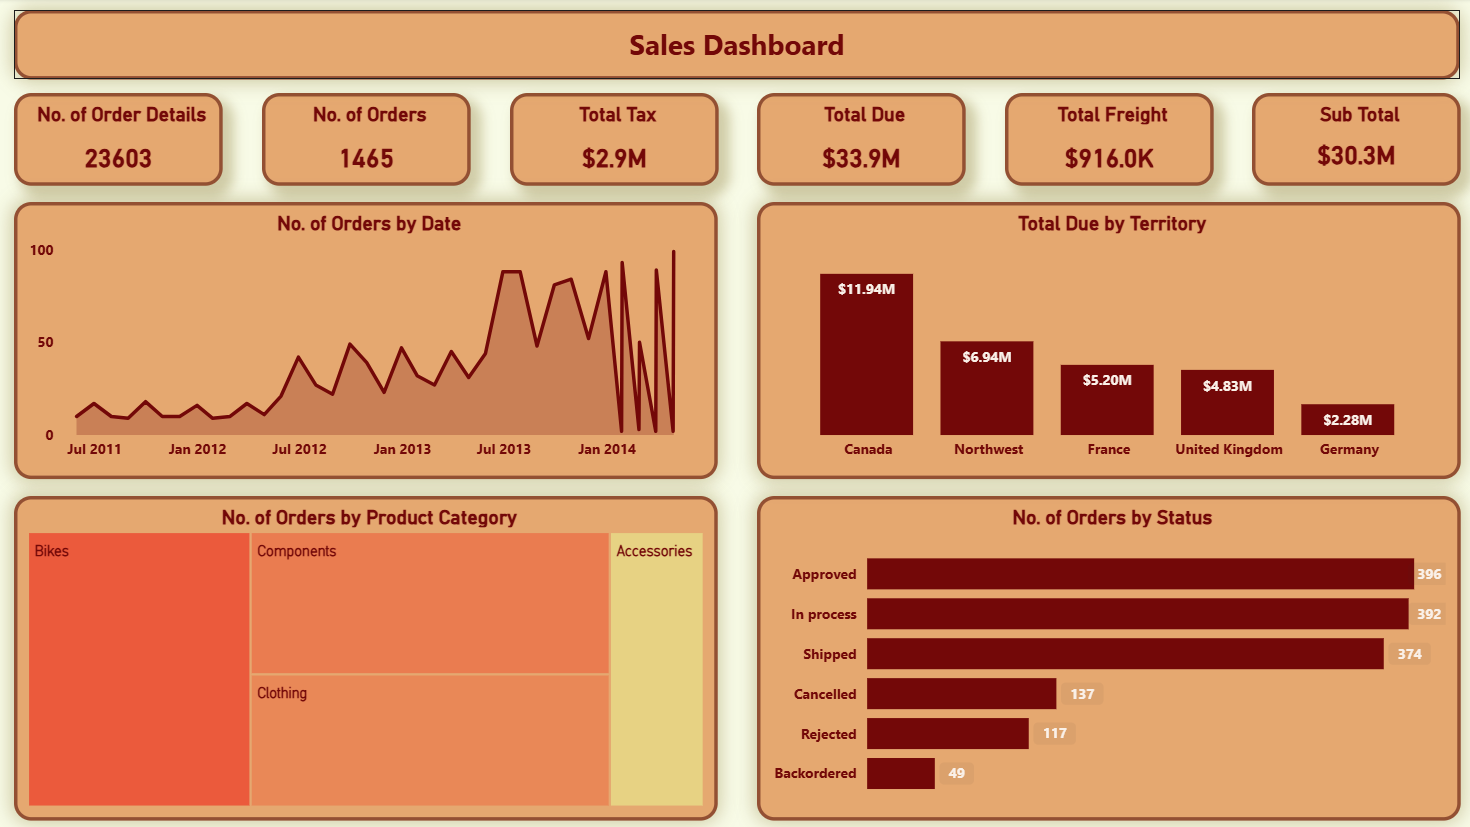

This screenshot's page, from the dashboard's own definition file:
{"tool":"powerbi","page":{"name":"Page 1","canvas":[1280,720],"ordinal":0},"visuals":[{"type":"cardVisual","title":"No. of Order Details","fields":{"Data":["Measures Table.# Order Details"]},"box":[17.5,82,180,80],"z":0},{"type":"cardVisual","title":"No. of Orders","fields":{"Data":["Measures Table.# Orders"]},"box":[231.1,82,180,80],"z":1000},{"type":"cardVisual","title":"Total Due","fields":{"Data":["Measures Table.Total Due"]},"box":[658.2,82,180,80],"z":2000},{"type":"cardVisual","title":"Sub Total","fields":{"Data":["Measures Table.Total Sub-Total"]},"box":[1085.3,82,180,80],"z":3000},{"type":"cardVisual","title":"Total Tax","fields":{"Data":["Measures Table.Total Tax"]},"box":[444.6,82,180,80],"z":4000},{"type":"cardVisual","title":"Total Freight","fields":{"Data":["Measures Table.Total Freight"]},"box":[871.8,82,180,80],"z":5000},{"type":"lineChart","title":"No. of Orders by Date","fields":{"Y":["Measures Table.# Orders"],"Category":["Fact Table.OrderDate"]},"box":[17.5,176.3,607,239],"z":6000},{"type":"clusteredBarChart","title":"No. of Orders by Status","fields":{"Category":["Status Dim.Status"],"Y":["Measures Table.# Orders"]},"box":[658.1,429.5,607.2,280.3],"z":7000},{"type":"treemap","title":"No. of Orders by Product Category","fields":{"Values":["Measures Table.# Orders"],"Group":["Product Dim.ProductCategory Hierarchy.ProductCategory","Product Dim.ProductCategory Hierarchy.ProductSubCategory","Product Dim.ProductCategory Hierarchy.Product"]},"box":[17.5,429.5,607.2,280.3],"z":8000},{"type":"clusteredColumnChart","fields":{"Category":["Territory Dim.Territory"],"Y":["Measures Table.Total Due"]},"box":[658.3,176.3,607,239],"z":9000},{"type":"textbox","box":[17.5,10,1247,60],"z":10000}]}

Visuals, with their boxes in screenshot pixels (x1, y1, x2, y2), scaled from the page's 1280x720 canvas onto the 1470x827 screenshot:
"No. of Order Details" cardVisual: <box>20,94,227,186</box>
"No. of Orders" cardVisual: <box>265,94,472,186</box>
"Total Due" cardVisual: <box>756,94,963,186</box>
"Sub Total" cardVisual: <box>1246,94,1453,186</box>
"Total Tax" cardVisual: <box>511,94,717,186</box>
"Total Freight" cardVisual: <box>1001,94,1208,186</box>
"No. of Orders by Date" lineChart: <box>20,203,717,477</box>
"No. of Orders by Status" clusteredBarChart: <box>756,493,1453,815</box>
"No. of Orders by Product Category" treemap: <box>20,493,717,815</box>
clusteredColumnChart - Territory Dim.Territory x Measures Table.Total Due: <box>756,203,1453,477</box>
textbox: <box>20,11,1452,80</box>
